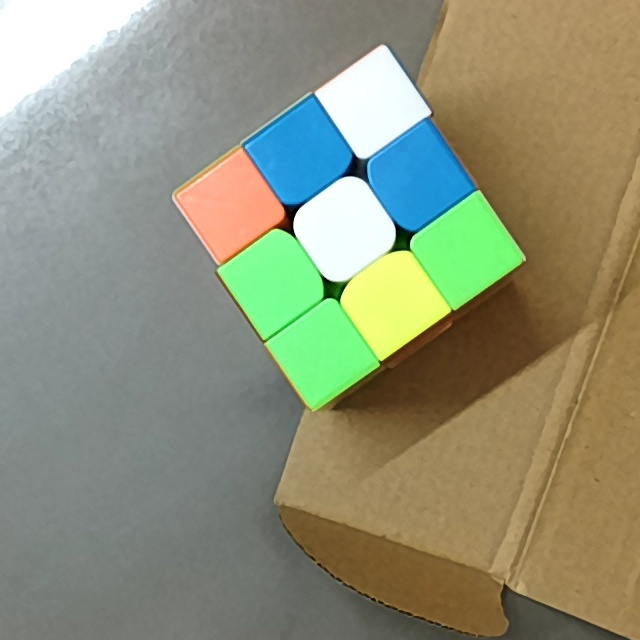tile: (268, 121, 331, 184), (311, 199, 376, 259), (384, 147, 448, 206), (341, 72, 400, 135), (291, 320, 350, 382), (437, 218, 495, 281), (248, 249, 305, 309), (203, 175, 258, 236), (365, 273, 423, 329)
